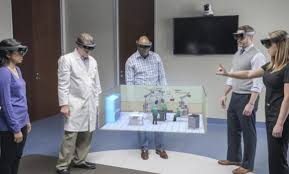hololens: (258, 33, 288, 49), (1, 46, 30, 58), (74, 41, 99, 53), (229, 31, 256, 41), (134, 40, 155, 50)
